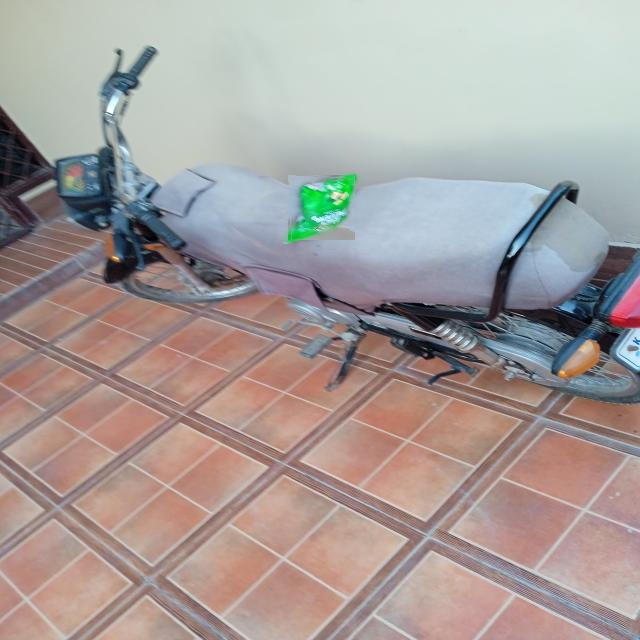Plastic: (287, 174, 355, 240)
